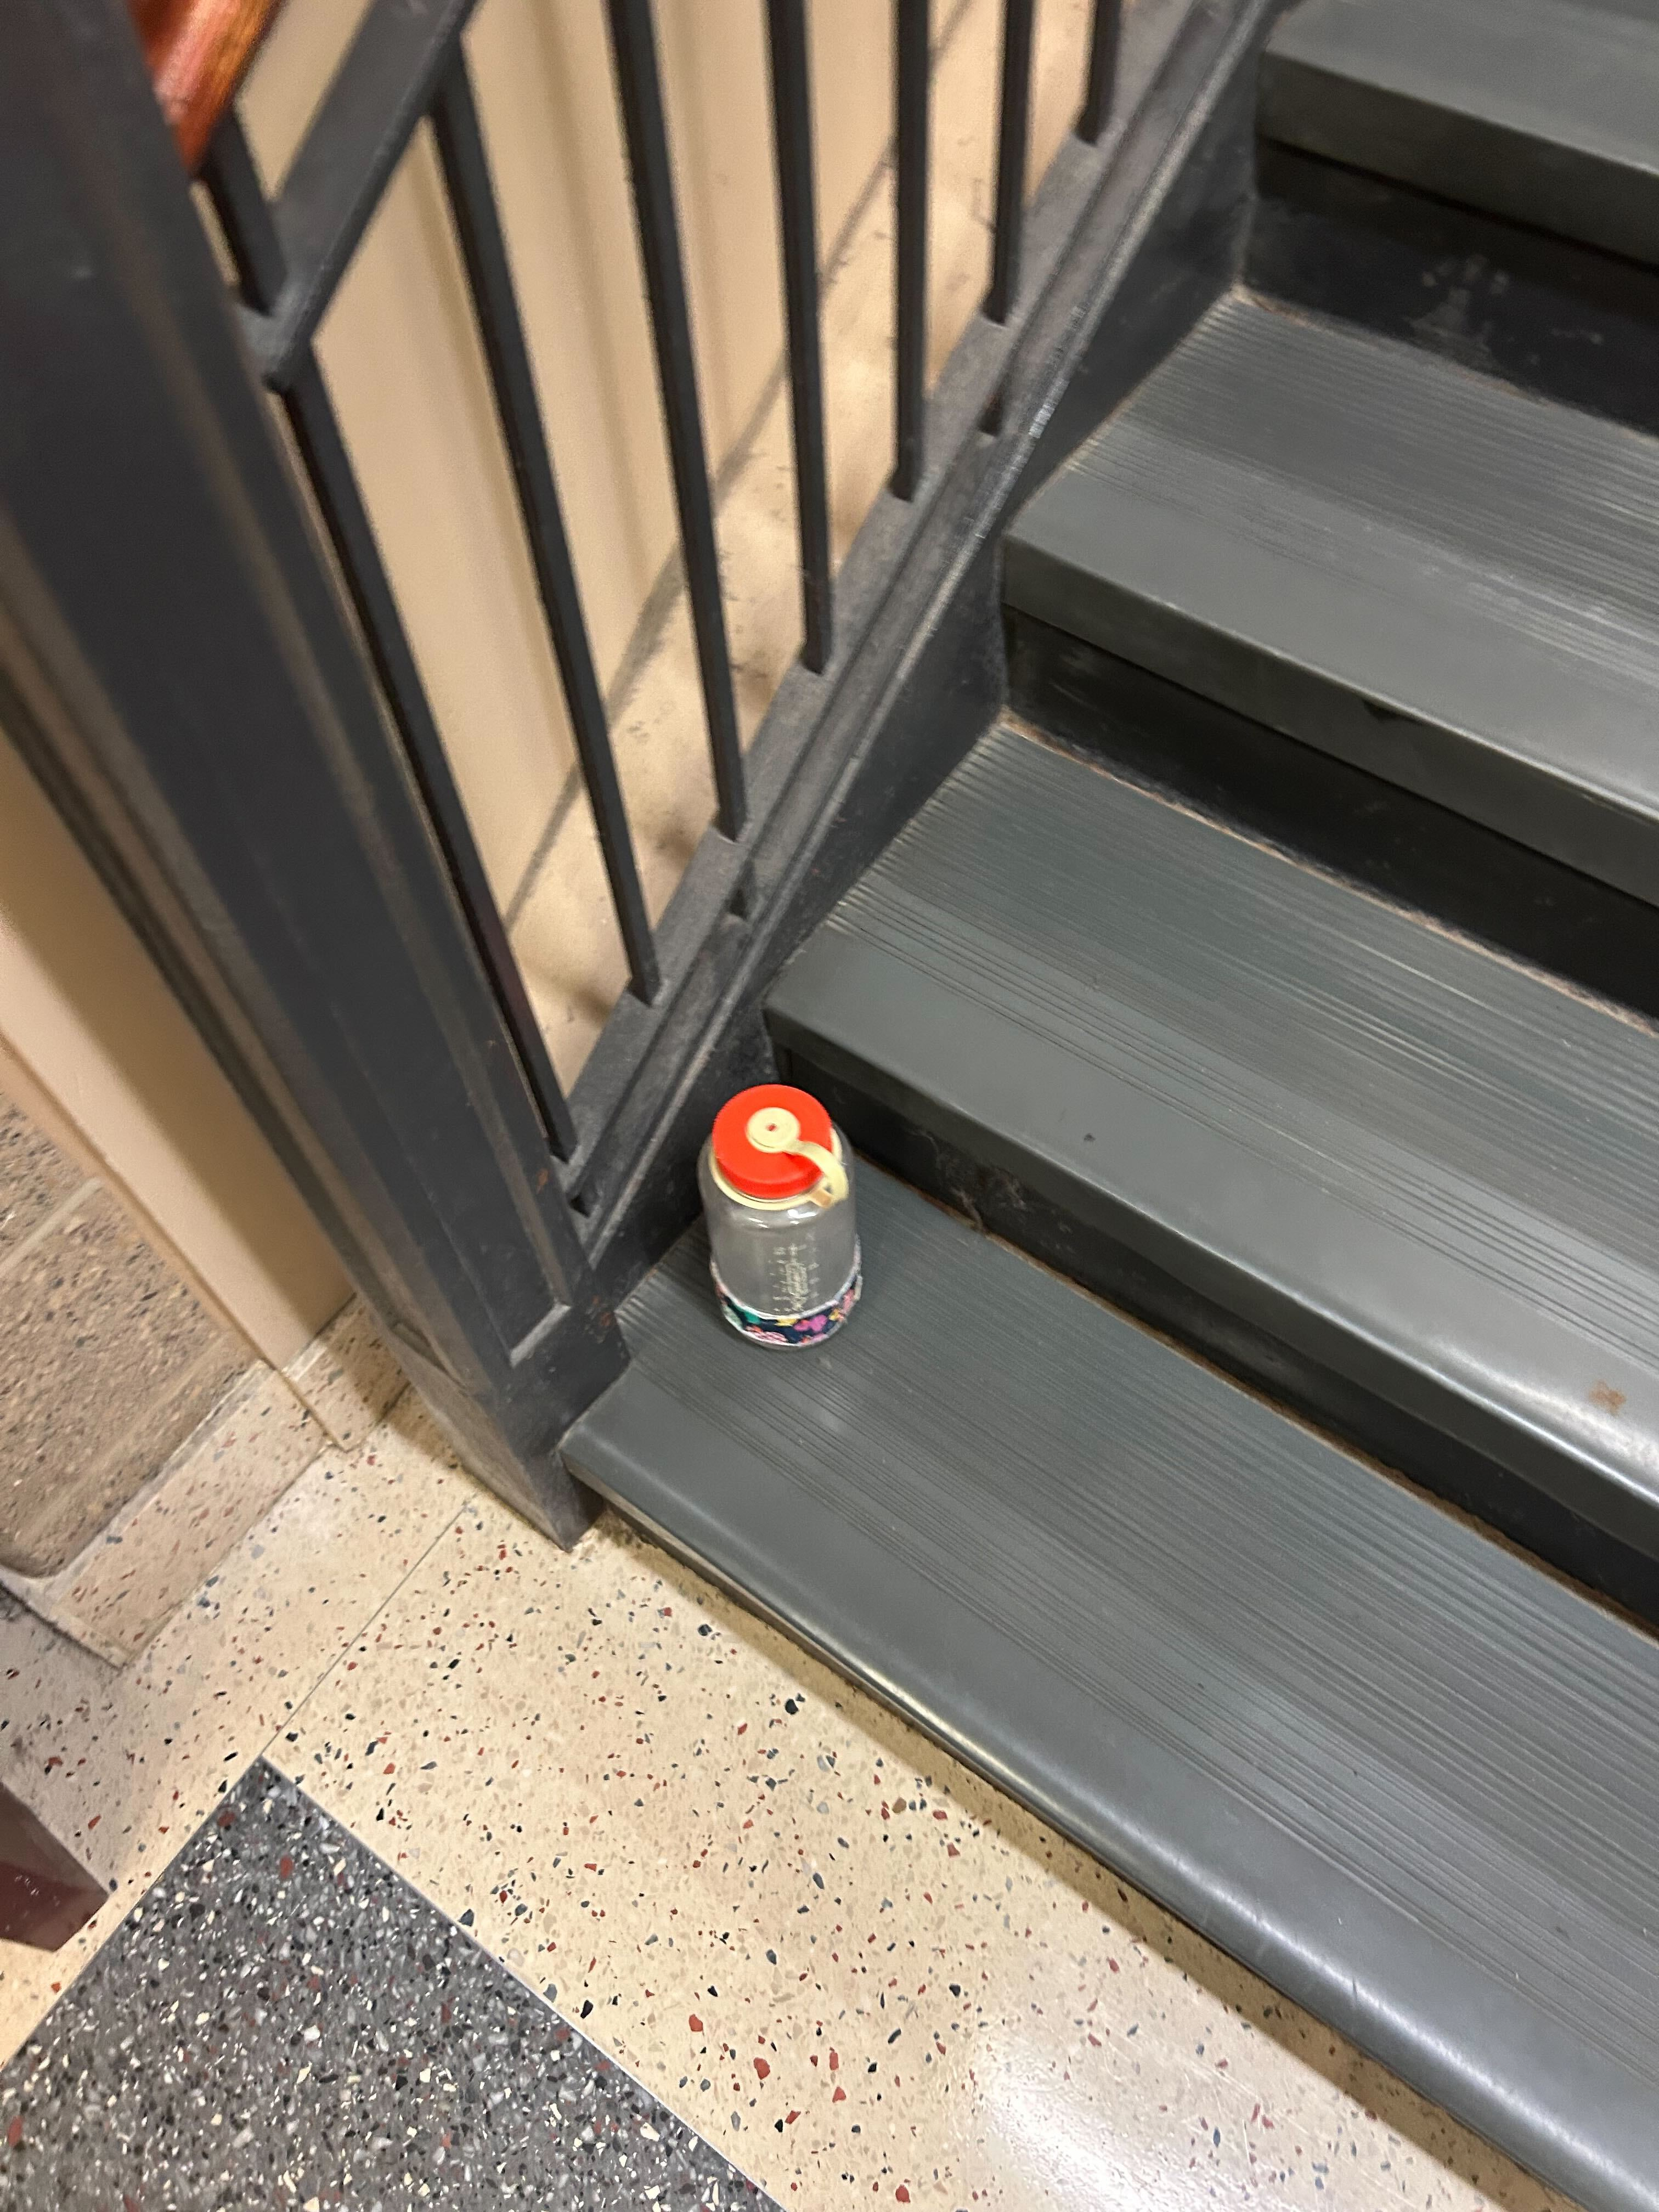bottle: (694, 1071, 866, 1359)
